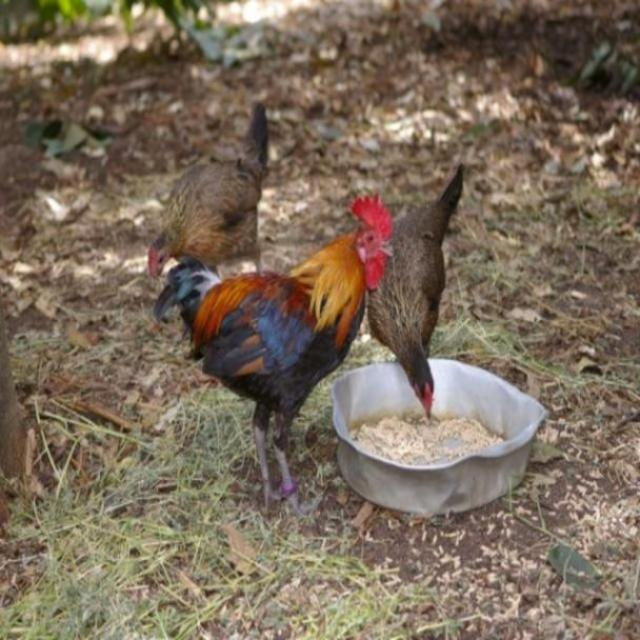Chicken: (149, 195, 400, 501), (361, 157, 470, 427), (146, 106, 273, 291)
